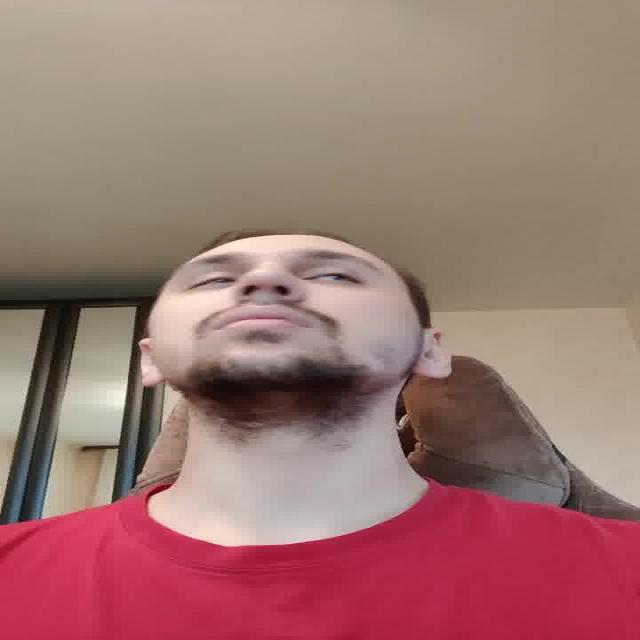earlobe: (410, 364, 454, 379), (139, 375, 168, 389)
eye: (302, 268, 364, 285), (189, 275, 235, 288)
nose: (232, 292, 304, 307)
wholeear: (412, 329, 453, 379), (137, 338, 170, 389)
